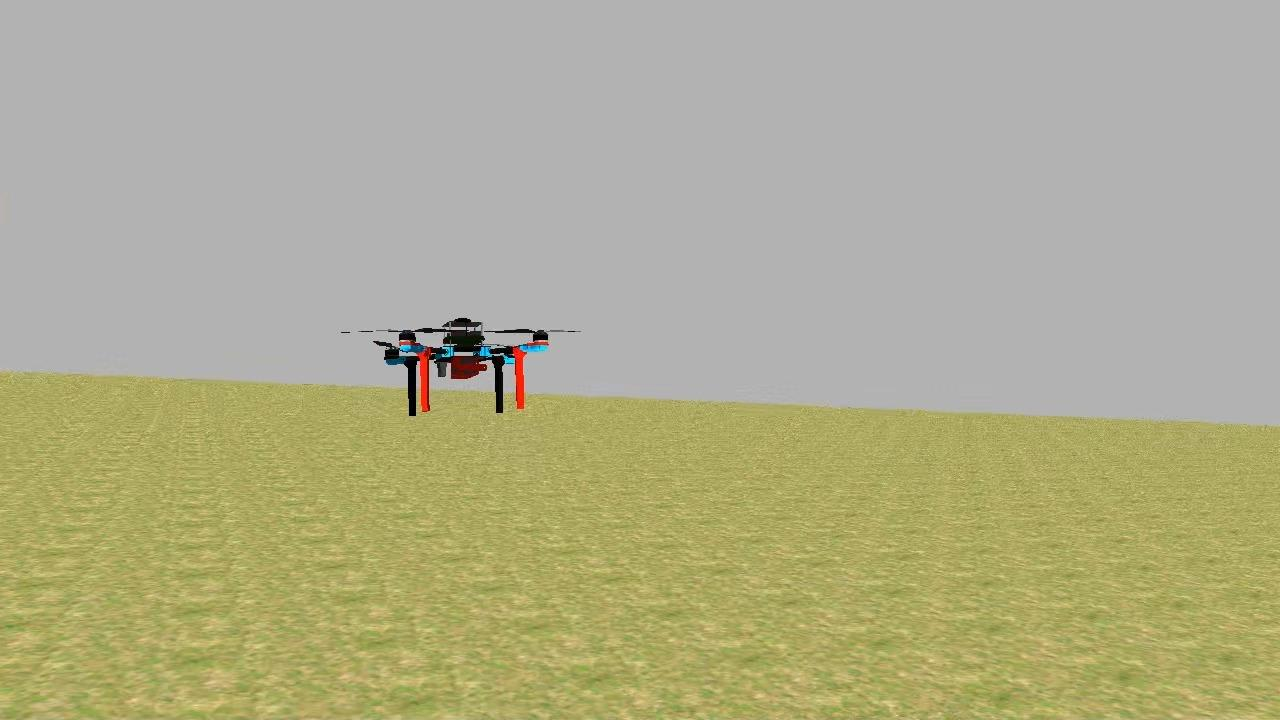UAV: (378, 312, 554, 418)
